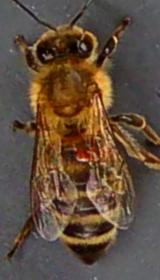varroa_mite: (70, 137, 110, 162)
